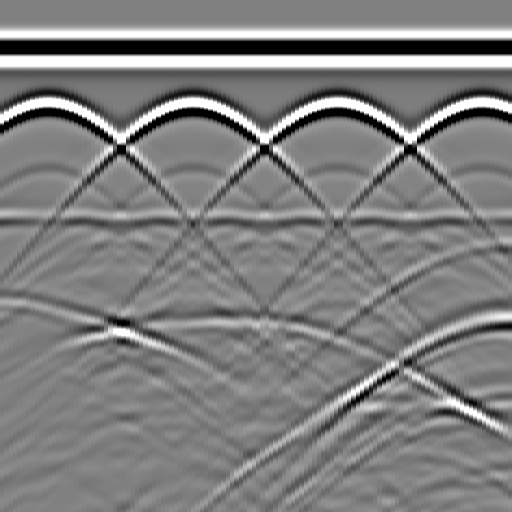grout_surface: (1, 205, 512, 235)
rebar: (26, 86, 66, 126), (170, 86, 210, 126), (315, 86, 355, 126), (459, 86, 499, 126)
rock_surface: (1, 299, 511, 404)
water_void: (484, 222, 512, 262)
